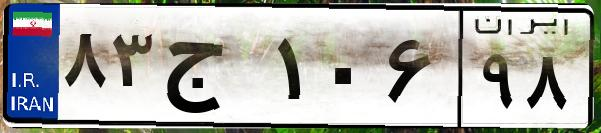0: (330, 28, 385, 110)
1: (270, 28, 330, 110)
3: (110, 28, 158, 98)
6: (385, 28, 445, 110)
8: (57, 26, 110, 100), (525, 38, 570, 115)
9: (475, 38, 525, 113)
ج: (158, 20, 270, 120)
